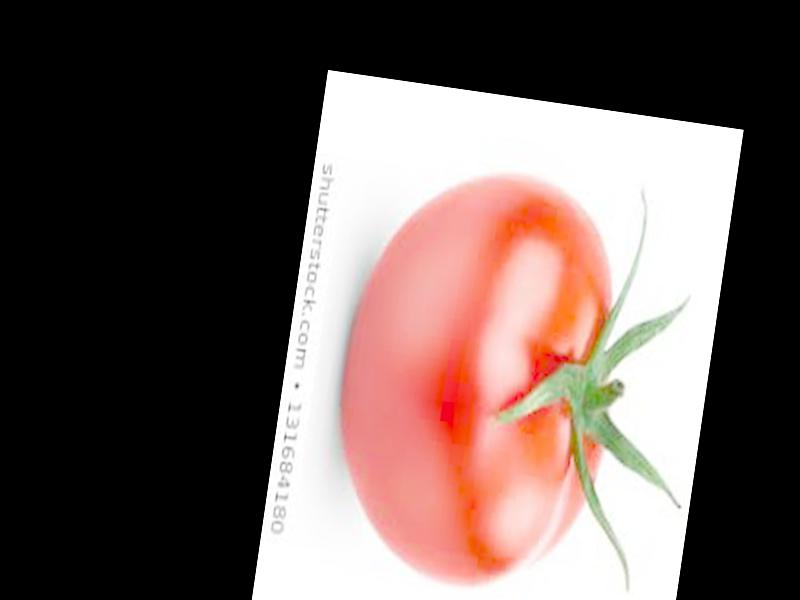Tomato: (319, 156, 637, 600)
